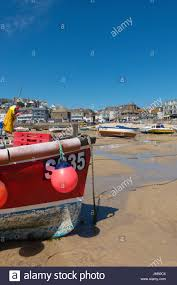buoy: (52, 168, 78, 193)
